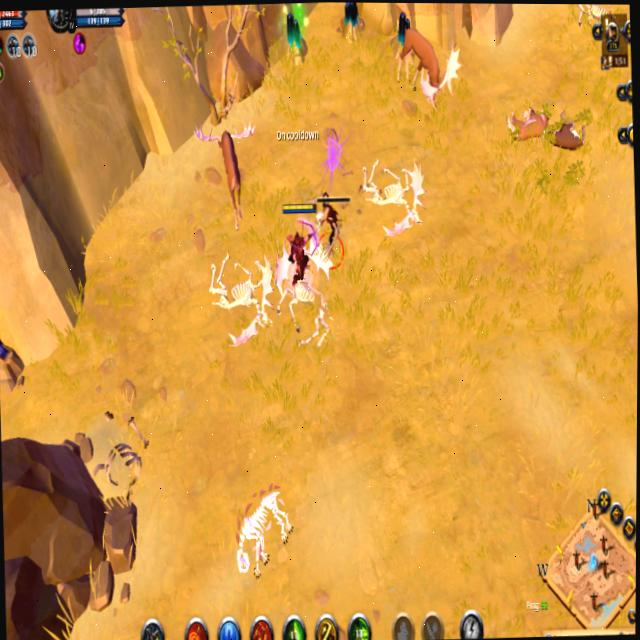mob: (505, 102, 553, 153), (539, 115, 593, 151)
ore: (189, 120, 265, 227), (392, 15, 464, 116), (309, 190, 358, 276)
red: (277, 196, 323, 293)
